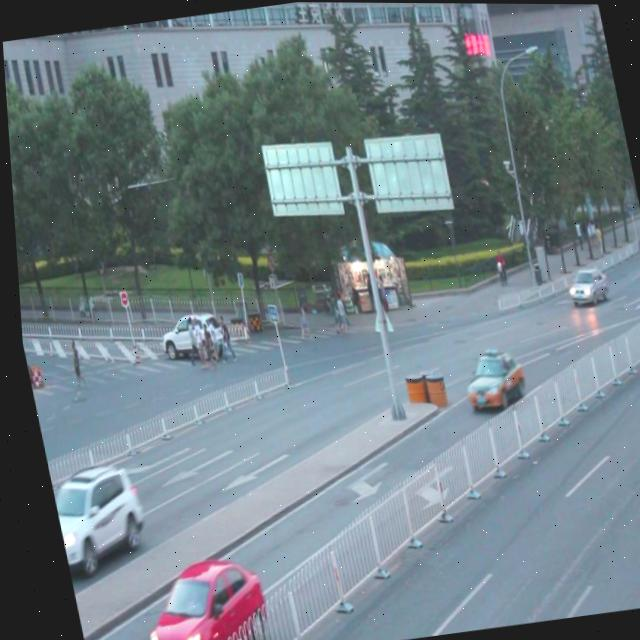car: (124, 548, 269, 640), (42, 454, 146, 575), (453, 346, 525, 414), (152, 306, 225, 366), (557, 260, 606, 304)
